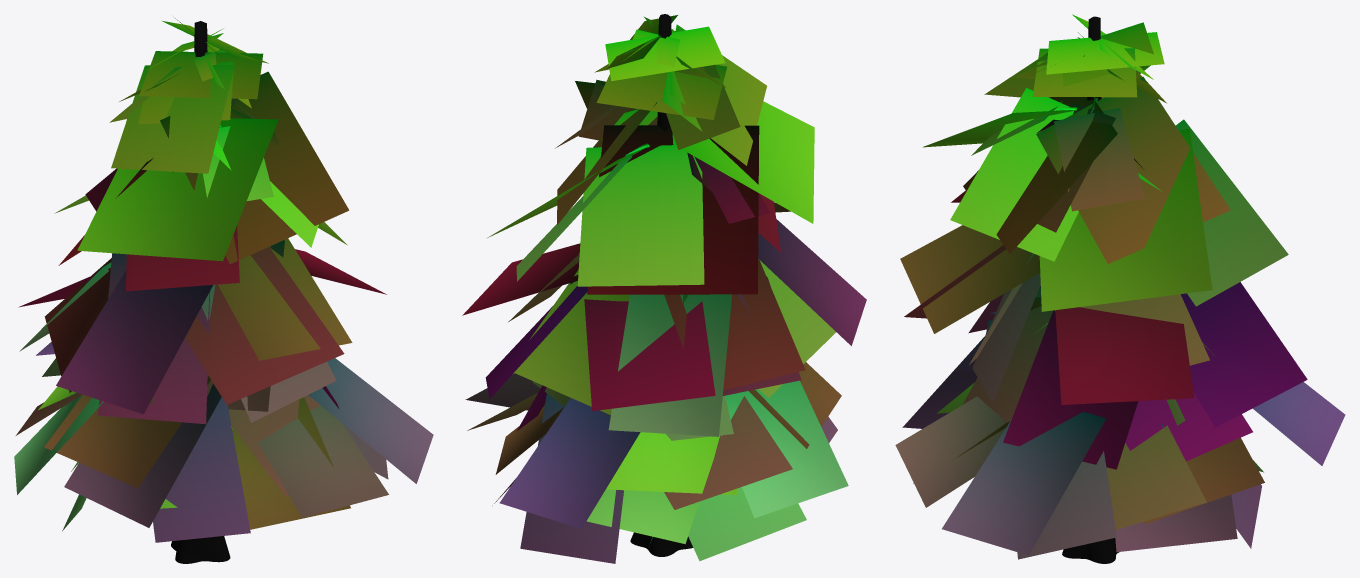
The model's file is M_Pine_4_18.fbx.
3 views of the same model, side by side, from view 1: azimuth 30°, elevation 25°; view 2: azimuth 150°, elevation 25°; view 3: azimuth 270°, elevation 25° (orthographic).
Parts seen in each view (by area): view 1: Tree_18; view 2: Tree_18; view 3: Tree_18.
Boxes of the visible parts, x1,y1,x2,y2 form: Tree_18: (14, 18, 433, 563); Tree_18: (462, 14, 866, 563); Tree_18: (895, 14, 1345, 563).
Bounding box in the file's own units: 914 × 1207 × 923.
